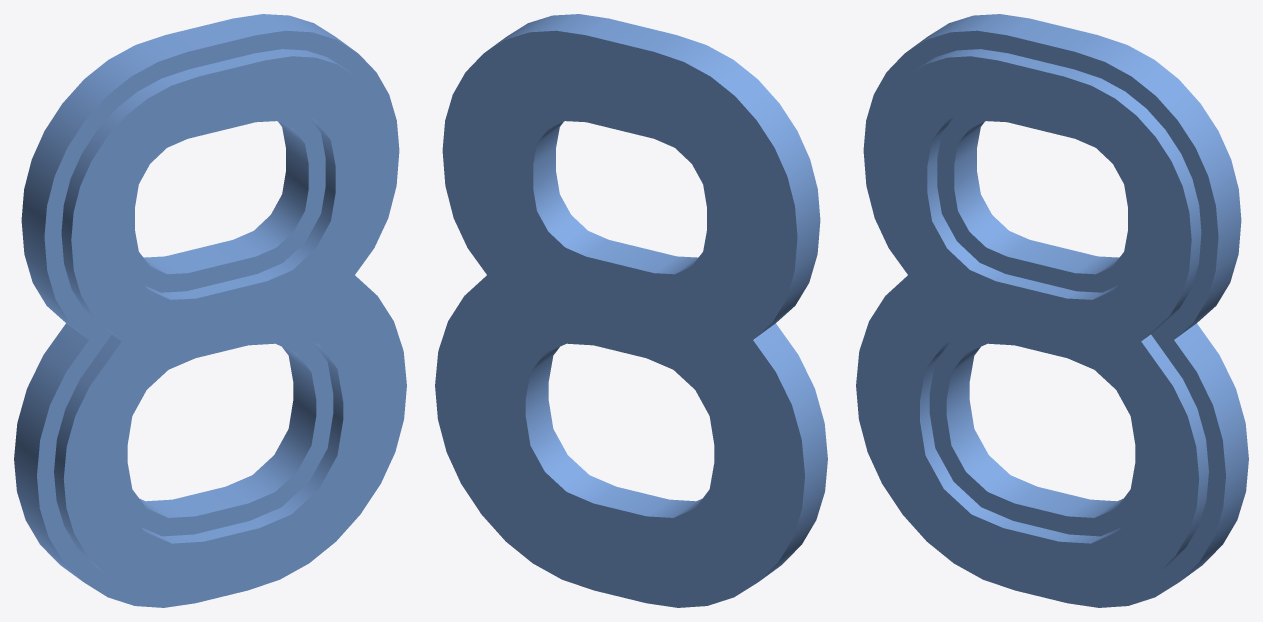
The picture shows the model from 3 angles, left to right: view 1: azimuth 30°, elevation 25°; view 2: azimuth 150°, elevation 25°; view 3: azimuth 330°, elevation 25°; orthographic projection.
Parts seen in each view (by area): view 1: 8; view 2: 8; view 3: 8.
Part boxes in pixels (<box>): 8: <box>14,14,406,607</box>; 8: <box>435,14,827,607</box>; 8: <box>856,14,1248,607</box>.
Size of the model in its own units: 3.27 by 4.67 by 0.5.
